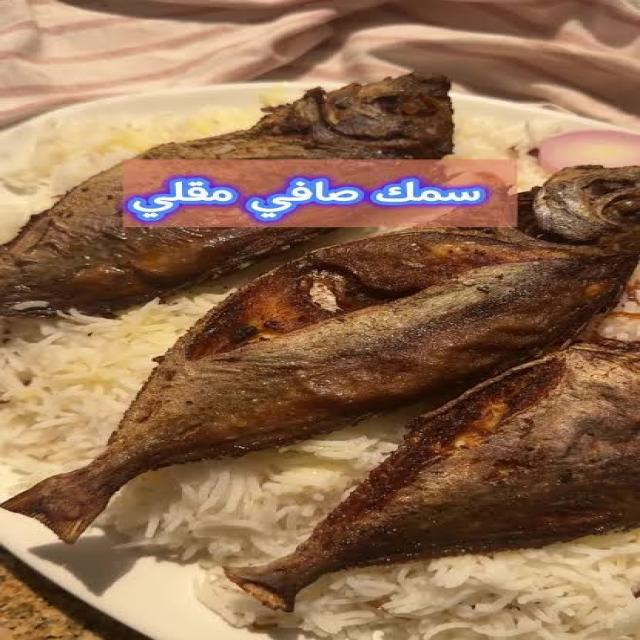Fried Fish: (46, 87, 640, 603)
